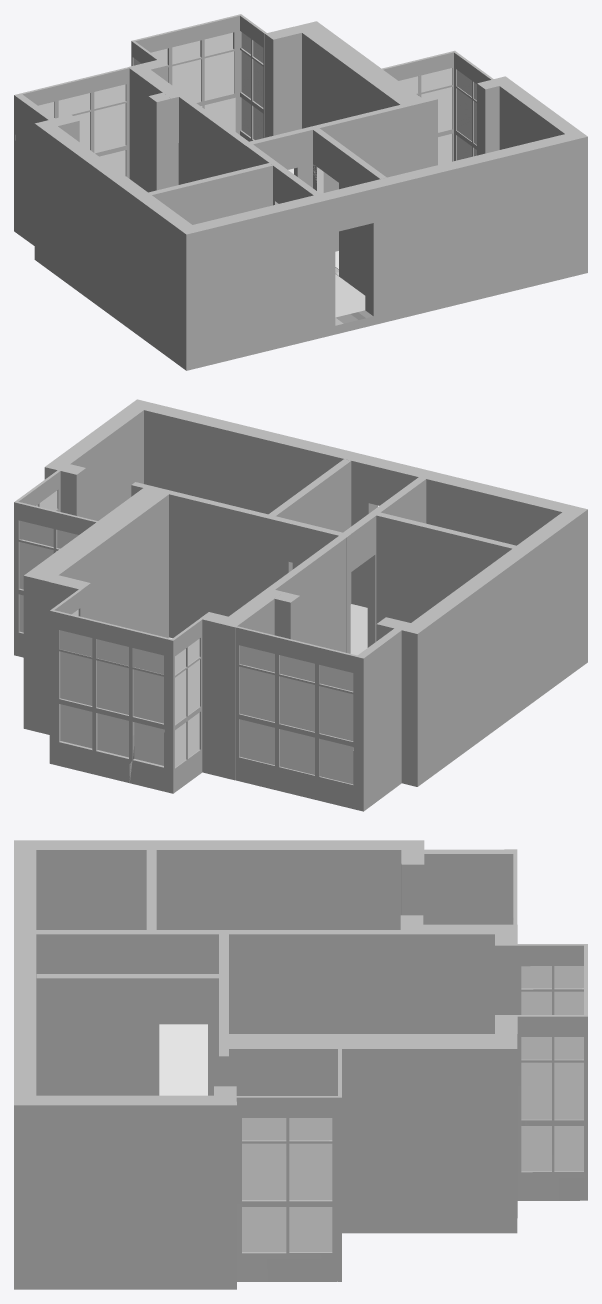
The picture shows the model from 3 angles, top to bottom: view 1: azimuth 30°, elevation 25°; view 2: azimuth 150°, elevation 25°; view 3: azimuth 270°, elevation 25°; orthographic projection. The views are drawn at different scales.
Parts seen in each view (by area): view 1: Cube_1, Cube.007_10, Cube.005_5, Cube.014_19, Cube.004_9, Cube.008_12, Cube.006_6, Cube.015_20, Cube.013_18, Cube.016_21, Cube.012_17, Cube.009_13 (+21 smaller); view 2: Cube_1, Cube.007_10, Cube.014_19, Cube.005_5, Cube.013_18, Cube.004_9, Cube.016_21, Cube.012_17, Cube.011_16, Cube.008_12, Cube.006_6, Cube.018_25 (+32 smaller); view 3: Cube_1, Cube.014_19, Cube.007_10, Cube.006_6, Cube.008_12, Cube.009_13, Cube.019_22, Cube.012_17, Cube.017_24, Cube.001_2, Plane.026_52, Plane.027_53 (+14 smaller).
Boxes of the visible parts, bbox=[...] form: Cube_1: bbox=[178, 76, 587, 370]; Cube.007_10: bbox=[34, 114, 191, 364]; Cube.005_5: bbox=[242, 96, 437, 251]; Cube.014_19: bbox=[294, 21, 422, 128]; Cube.004_9: bbox=[148, 163, 272, 224]; Cube.008_12: bbox=[178, 95, 248, 184]; Cube.006_6: bbox=[313, 126, 386, 295]; Cube.015_20: bbox=[265, 26, 301, 137]; Cube.013_18: bbox=[14, 67, 129, 231]; Cube.016_21: bbox=[134, 14, 239, 134]; Cube.012_17: bbox=[15, 94, 54, 245]; Cube.009_13: bbox=[136, 69, 184, 192]; Cube_1: bbox=[44, 399, 587, 668]; Cube.007_10: bbox=[376, 512, 578, 786]; Cube.014_19: bbox=[23, 488, 168, 734]; Cube.005_5: bbox=[131, 482, 350, 653]; Cube.013_18: bbox=[235, 626, 365, 811]; Cube.004_9: bbox=[376, 512, 516, 641]; Cube.016_21: bbox=[52, 610, 171, 792]; Cube.012_17: bbox=[357, 628, 401, 810]; Cube.011_16: bbox=[200, 612, 244, 780]; Cube.008_12: bbox=[268, 536, 346, 652]; Cube.006_6: bbox=[268, 459, 351, 604]; Cube.018_25: bbox=[170, 619, 202, 793]; Cube_1: bbox=[14, 840, 236, 1289]; Cube.014_19: bbox=[229, 1034, 517, 1233]; Cube.007_10: bbox=[36, 840, 424, 929]; Cube.006_6: bbox=[36, 974, 218, 1095]; Cube.008_12: bbox=[229, 930, 400, 1033]; Cube.009_13: bbox=[400, 924, 494, 1033]; Cube.019_22: bbox=[236, 1096, 337, 1281]; Cube.012_17: bbox=[424, 849, 513, 924]; Cube.017_24: bbox=[517, 1015, 587, 1200]; Cube.001_2: bbox=[36, 930, 150, 1095]; Plane.026_52: bbox=[242, 1143, 332, 1199]; Plane.027_53: bbox=[242, 1207, 332, 1251].
Size of the model in its own units: 8.07 by 2.62 by 7.39.
Materials: 57 (24 with a texture image).
